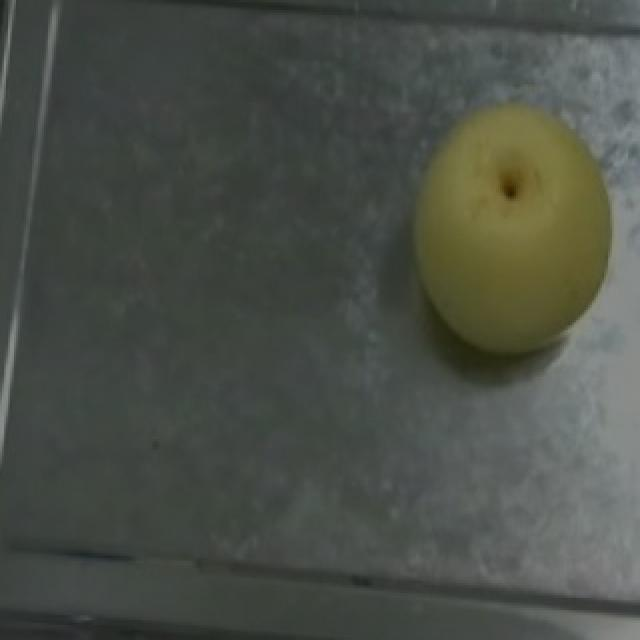Fruit: (394, 84, 628, 370)
